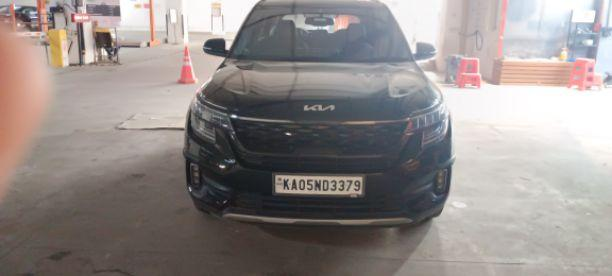license_plate: (270, 171, 366, 198)
